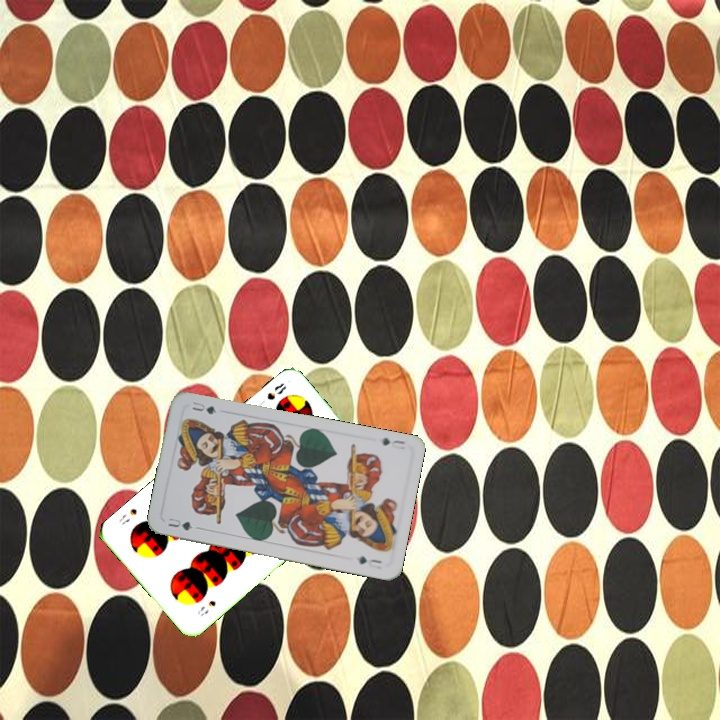GU: (164, 514, 196, 533), (378, 434, 408, 452)
S8: (263, 379, 289, 403), (193, 596, 218, 619)
